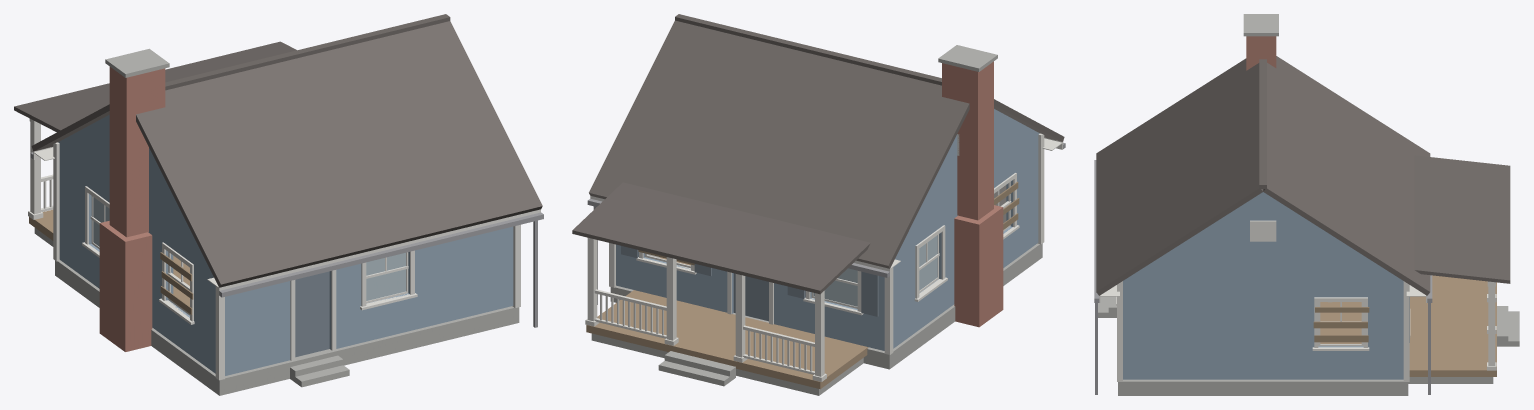
File: SM_House_B.fbx
3 renders of one model, left to right at view 1: azimuth 30°, elevation 25°; view 2: azimuth 150°, elevation 25°; view 3: azimuth 270°, elevation 25°, orthographic. The views are drawn at different scales.
Parts seen in each view (by area): view 1: SM_House_B, SM_House_B_Glass; view 2: SM_House_B, SM_House_B_Glass; view 3: SM_House_B.
Part boxes in pixels (left/top/right/bottom): SM_House_B: left=14, top=14, right=543, bottom=395; SM_House_B_Glass: left=93, top=197, right=405, bottom=300; SM_House_B: left=572, top=14, right=1065, bottom=395; SM_House_B_Glass: left=813, top=235, right=937, bottom=306; SM_House_B: left=1094, top=14, right=1519, bottom=395.
Bounding box in the file's own units: 9.1 × 7.11 × 11.28.
